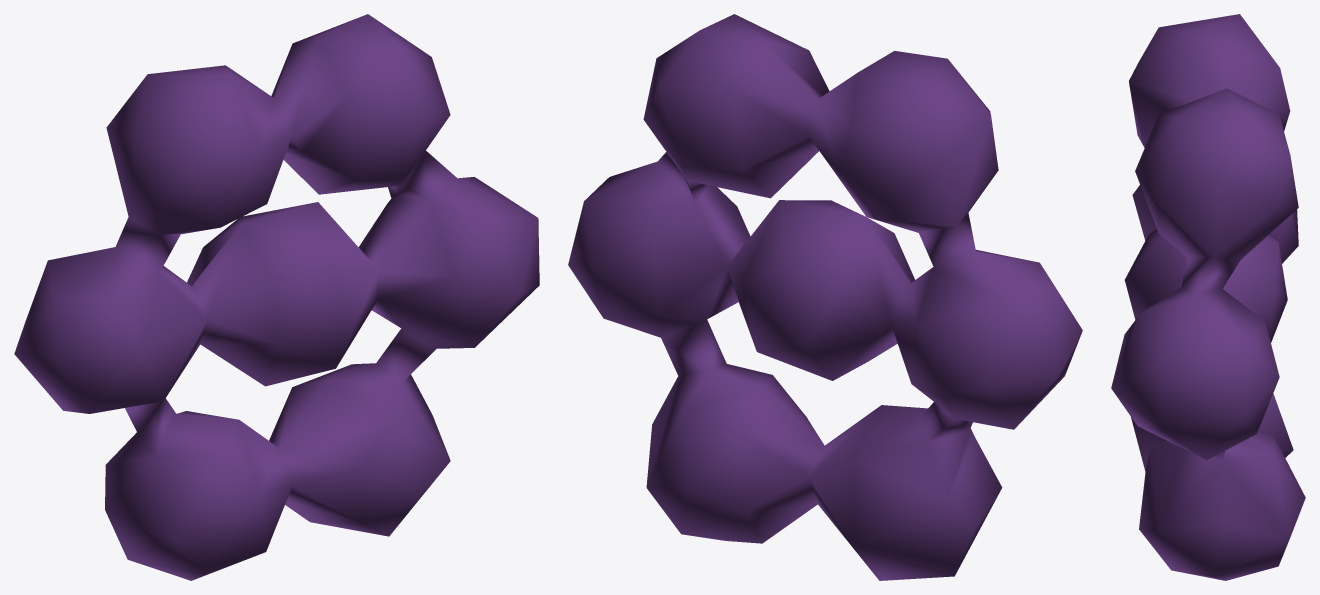
The model's file is grapes.glb.
3 views of the same model, side by side, from view 1: azimuth 30°, elevation 25°; view 2: azimuth 150°, elevation 25°; view 3: azimuth 270°, elevation 25° (orthographic). The views are drawn at different scales.
Visible parts, largest first — view 1: grapes; view 2: grapes; view 3: grapes.
Boxes of the visible parts, <box> form: grapes: <box>14,14,539,580</box>; grapes: <box>568,14,1082,580</box>; grapes: <box>1111,14,1305,580</box>.
Bounding box in the file's own units: 0.06 × 0.0597 × 0.022.
